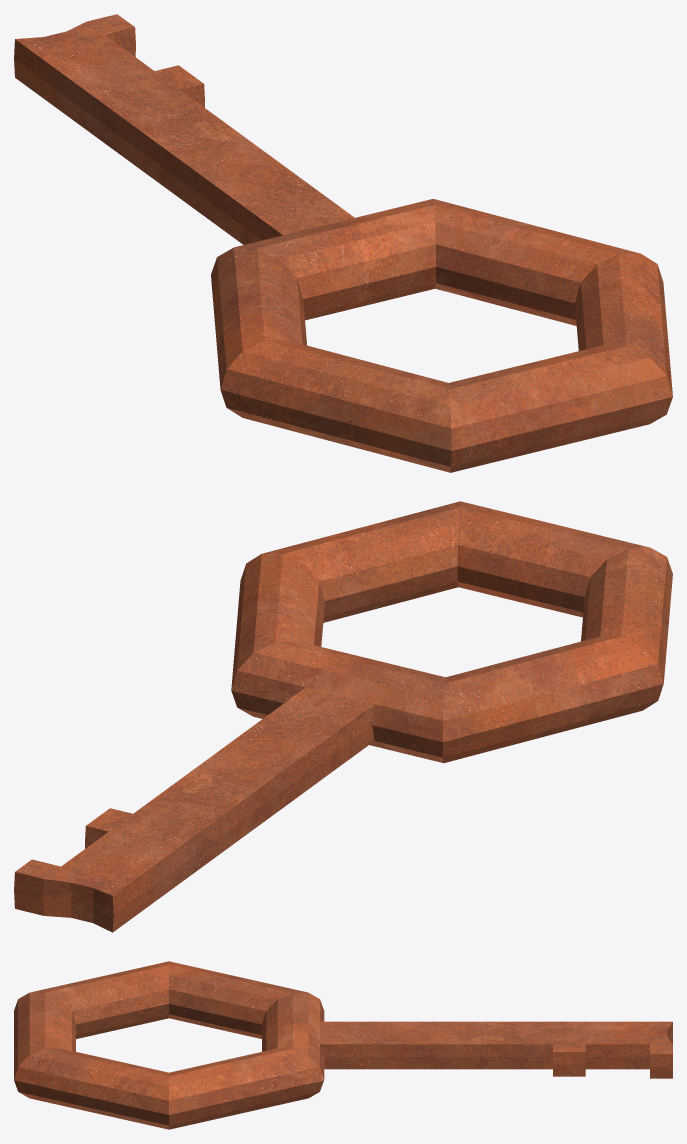
The model's file is KeyTextured.fbx.
3 views of the same model, one above another, from view 1: azimuth 30°, elevation 25°; view 2: azimuth 150°, elevation 25°; view 3: azimuth 270°, elevation 25° (orthographic). The views are drawn at different scales.
Parts seen in each view (by area): view 1: Torus; view 2: Torus; view 3: Torus.
Part boxes in pixels (box(x1,y1,x2,y2)): Torus: box(14, 14, 672, 472); Torus: box(14, 501, 672, 932); Torus: box(14, 961, 672, 1129).
Size of the model in its own units: 30 by 5 by 60.
Materials: 1 (1 with a texture image).
